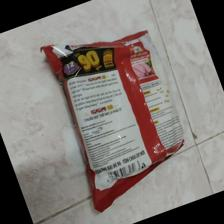Kokomi: (41, 24, 193, 218)
